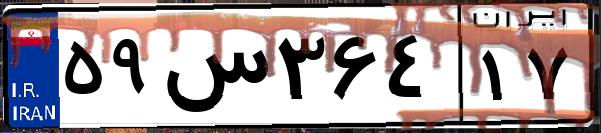1: (475, 38, 525, 113)
3: (270, 28, 330, 110)
4: (385, 28, 445, 110)
5: (57, 26, 110, 100)
6: (330, 28, 385, 110)
7: (525, 38, 570, 115)
9: (110, 28, 158, 98)
س: (158, 20, 270, 120)
